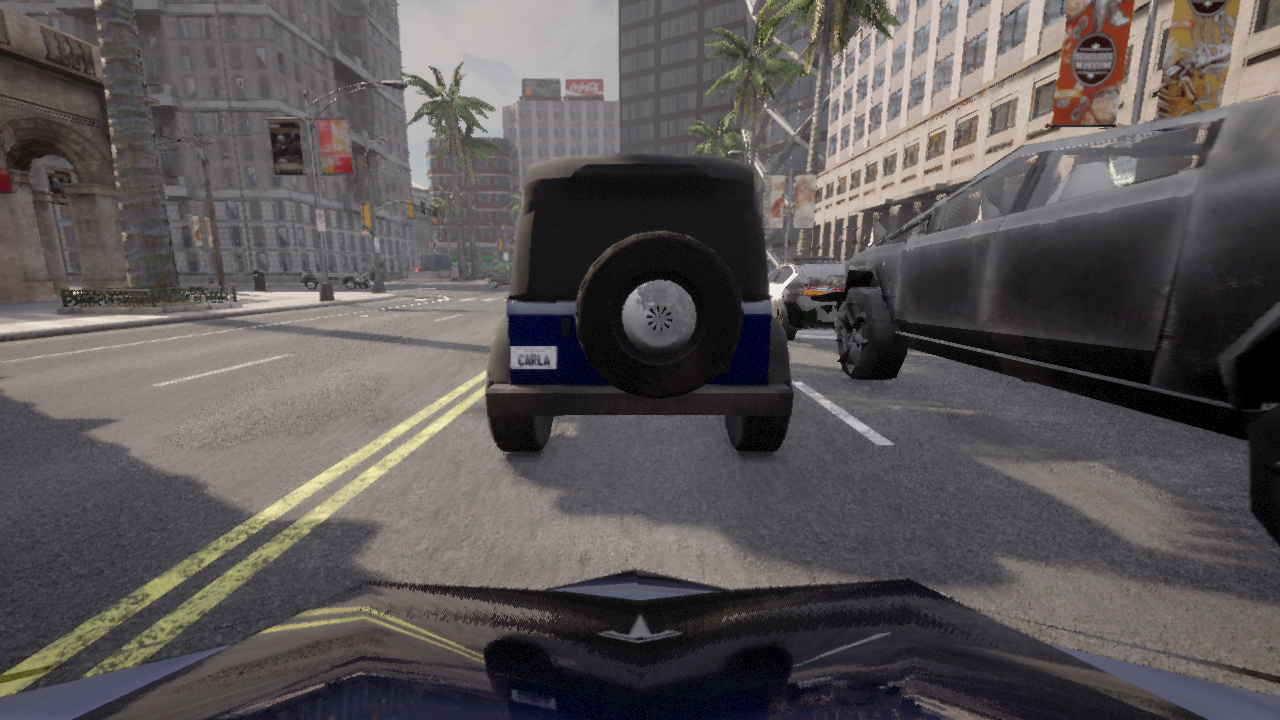cyclist: (833, 95, 1279, 545), (0, 569, 1279, 719), (486, 153, 792, 451), (768, 256, 843, 338), (299, 263, 372, 289), (487, 269, 511, 288)
